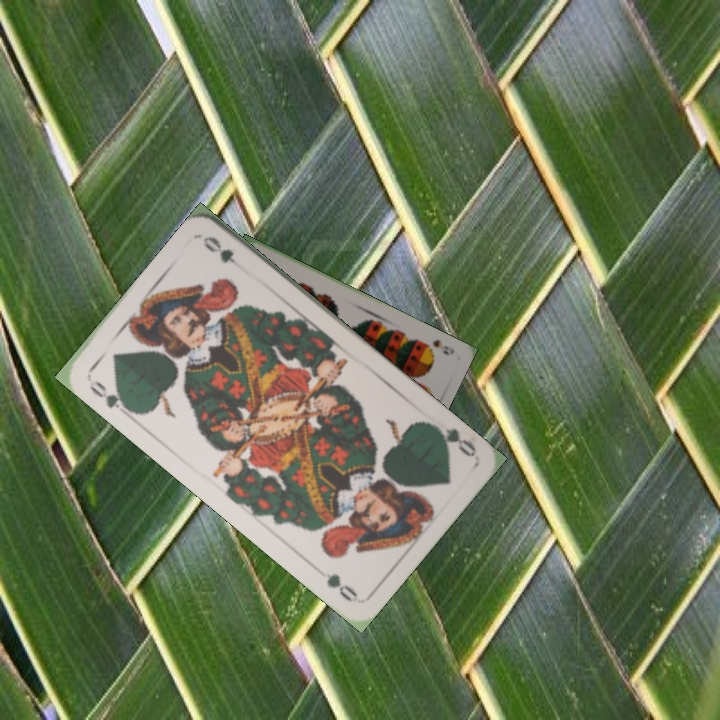GO: (425, 419, 479, 460), (85, 377, 134, 415)
S9: (429, 335, 457, 358)
